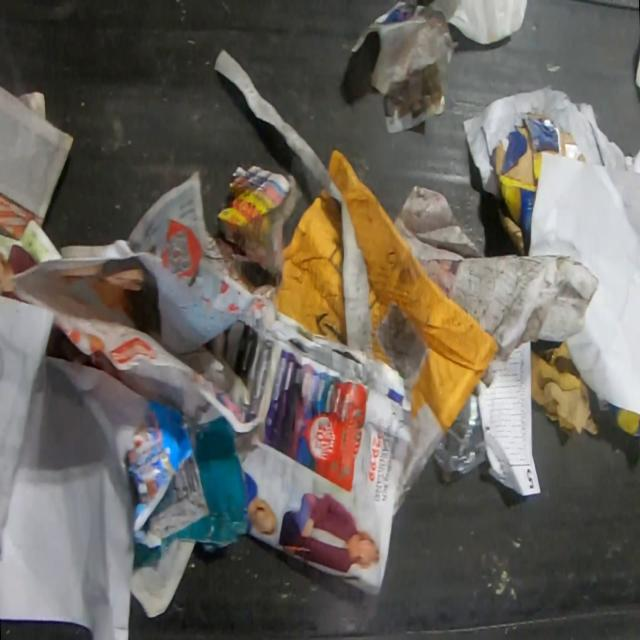cardboard: (325, 146, 500, 521), (128, 401, 250, 618), (489, 109, 586, 256), (272, 185, 346, 345), (126, 396, 196, 547), (531, 339, 602, 437), (590, 389, 640, 438)
rigid_plastic: (432, 391, 489, 476), (426, 0, 528, 45)
